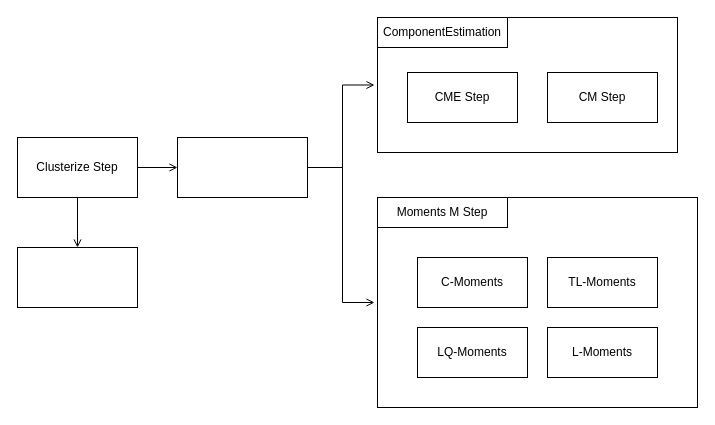
Some shapes in this 715 by 425 pixel diagram are drawn without their labels. Here are the shapes that lost their labels. From the top down, the box of each, then its label:
(176, 136, 308, 198): Responsibilities Step
(16, 246, 138, 308): MLE
